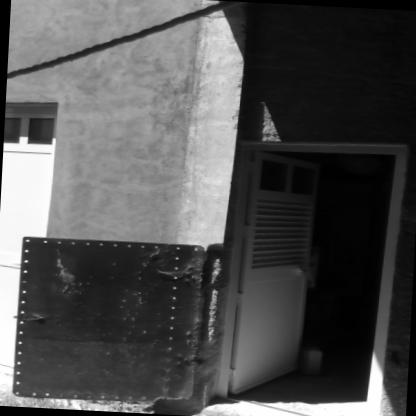semi: (218, 132, 411, 416)
